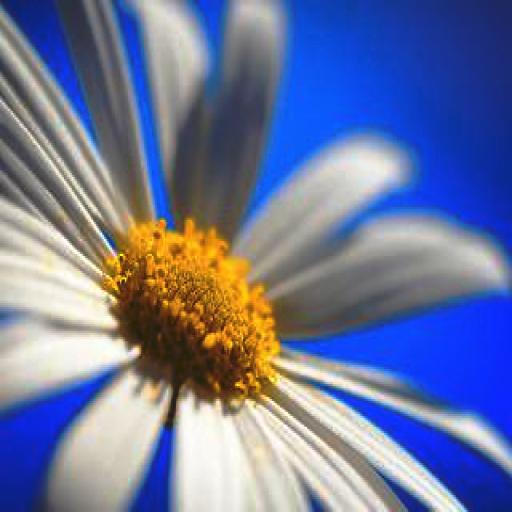daisy: (8, 8, 416, 506)
